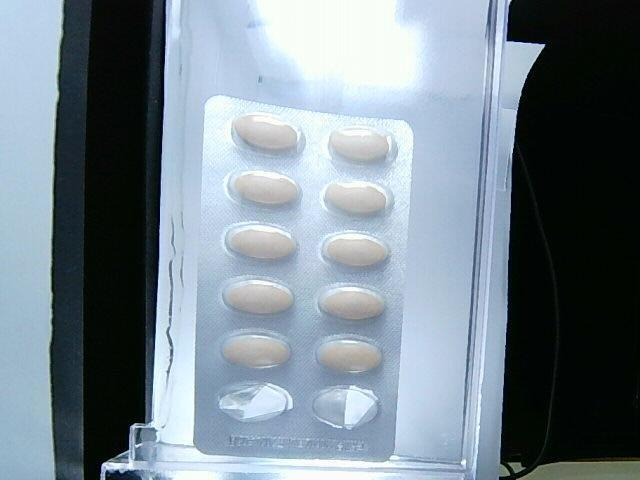Light Front: (191, 96, 415, 463)
No Pill Front: (313, 385, 379, 429), (219, 383, 291, 423)
Pill Front: (231, 113, 304, 154), (223, 276, 295, 313), (228, 170, 301, 206), (329, 125, 396, 164), (225, 224, 297, 260), (315, 335, 382, 372), (221, 331, 289, 367), (321, 181, 392, 215), (321, 233, 389, 268), (318, 284, 385, 319)
